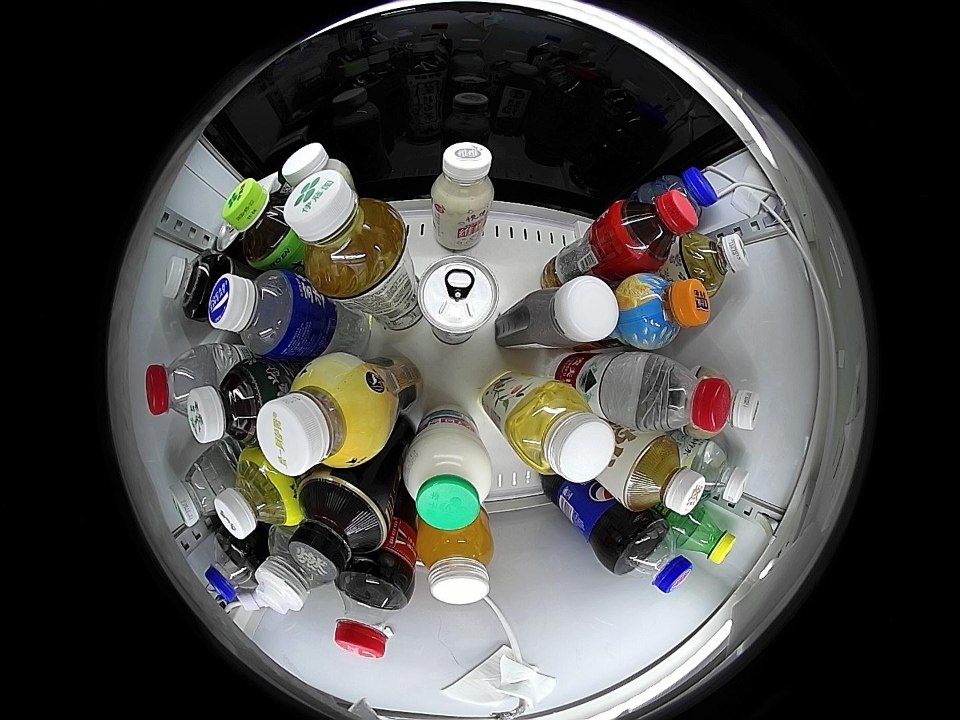asamu: (256, 358, 384, 475)
baicha: (284, 170, 405, 296), (679, 231, 750, 294)
baishikele-2: (613, 519, 692, 594), (205, 535, 263, 603)
baokuangli: (207, 270, 304, 358)
binghongcha: (611, 189, 699, 269)
bingtangxueli: (214, 450, 301, 539)
chapai2: (507, 385, 615, 483)
guolicheng: (618, 272, 709, 350)
jianjiao: (254, 534, 328, 615)
kele-b: (333, 569, 412, 660)
liziyuan: (401, 424, 493, 532)
maidong: (658, 166, 720, 227)
moliqingcha: (187, 361, 277, 445)
nongfushanquan: (634, 355, 730, 436), (146, 346, 216, 418)
qinningshui: (689, 440, 750, 505)
rancha-1: (287, 474, 390, 577)
rancha-2: (620, 435, 706, 516)
weic: (415, 517, 494, 605)
weiweidounai: (431, 142, 495, 215)
wuhounaicha: (699, 363, 761, 431)
wulongcha: (163, 251, 225, 321)
xuebi-b: (674, 506, 737, 566)
yezhi: (416, 255, 499, 343)
yibao: (168, 455, 226, 528)
yitengyuan: (221, 176, 302, 267)
yousuanru: (279, 143, 352, 191)
youyanggudong: (533, 276, 620, 348)
